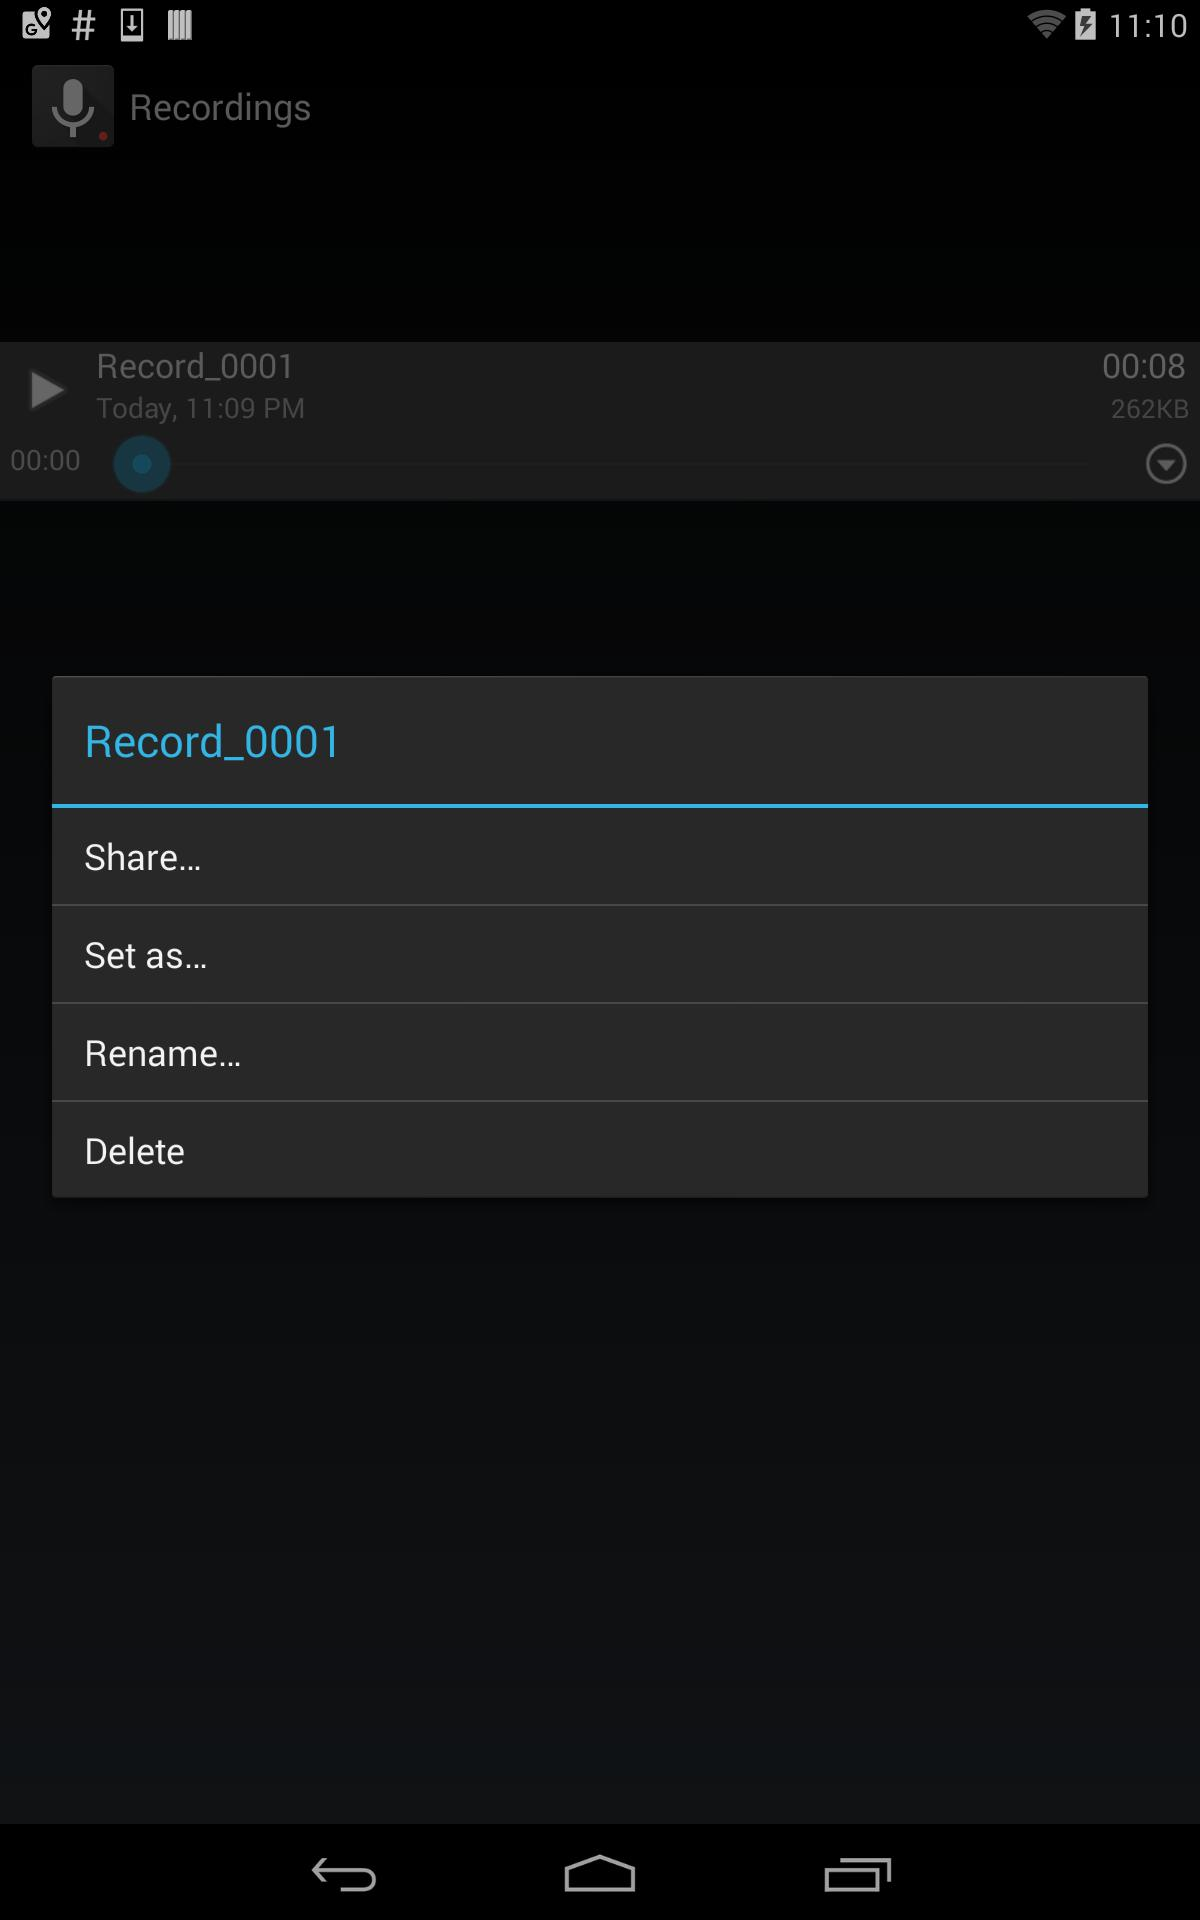android.view.View: (53, 804, 1147, 809)
android.widget.FrameLayout: (19, 659, 1181, 1214)
android.widget.LinearLayout: (36, 659, 1164, 1214), (36, 809, 1164, 1214), (36, 659, 1164, 809), (84, 676, 1116, 804), (53, 905, 1147, 1002), (53, 1004, 1147, 1100), (53, 1102, 1147, 1198), (53, 809, 1147, 904)
android.widget.RelativeLayout: (84, 831, 1116, 881), (84, 929, 1116, 979), (84, 1027, 1116, 1075), (84, 1125, 1116, 1174)
android.widget.TextView: (84, 710, 1116, 769), (84, 831, 1116, 881), (84, 929, 1116, 979), (84, 1027, 1116, 1075), (84, 1125, 1116, 1174)
